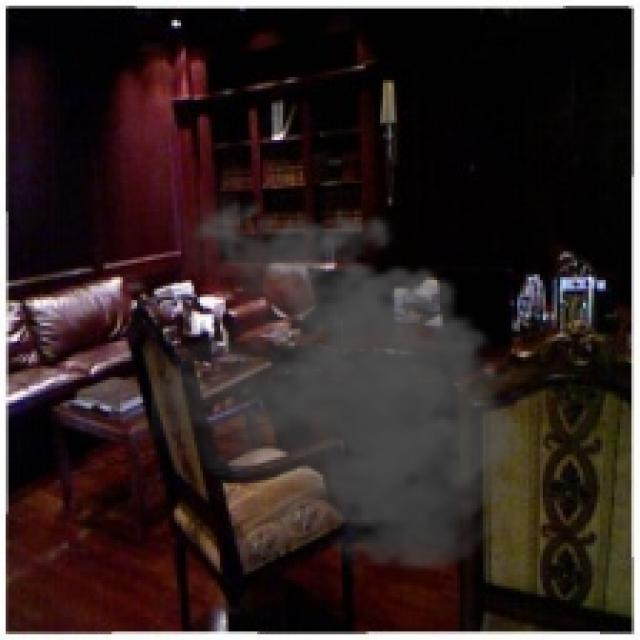Smoke: (151, 188, 546, 580)
